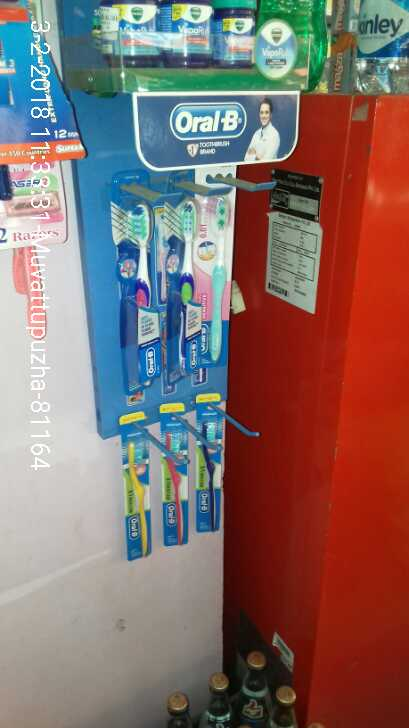pharmacy: (118, 203, 169, 382), (196, 190, 234, 366), (189, 414, 234, 543), (115, 419, 153, 564), (169, 204, 193, 378), (101, 3, 162, 55), (161, 429, 189, 539), (209, 4, 256, 62), (163, 6, 214, 59)
